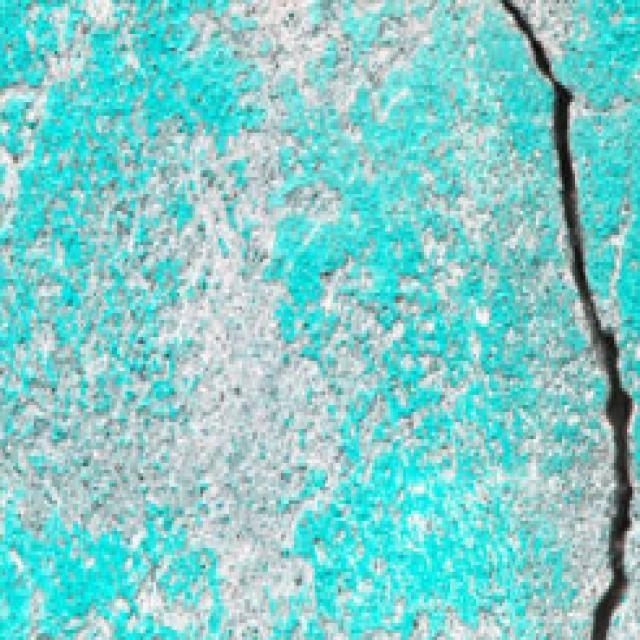vertical cracks: (500, 0, 632, 639)
